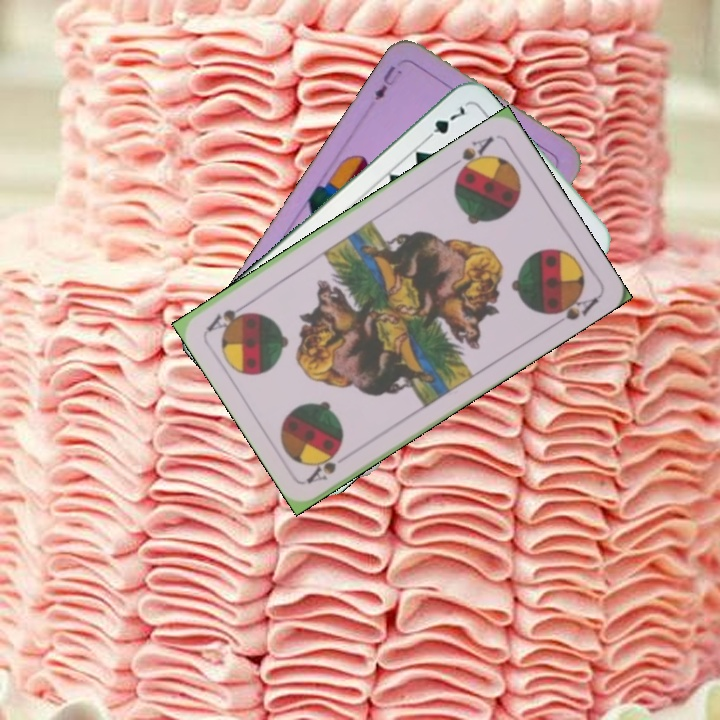EU: (370, 61, 405, 104)
G7: (420, 102, 468, 145)
SA: (445, 131, 497, 179), (303, 445, 356, 486)
